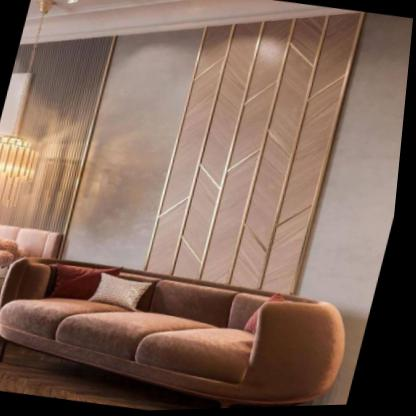Wall Panel: (0, 16, 414, 313)
